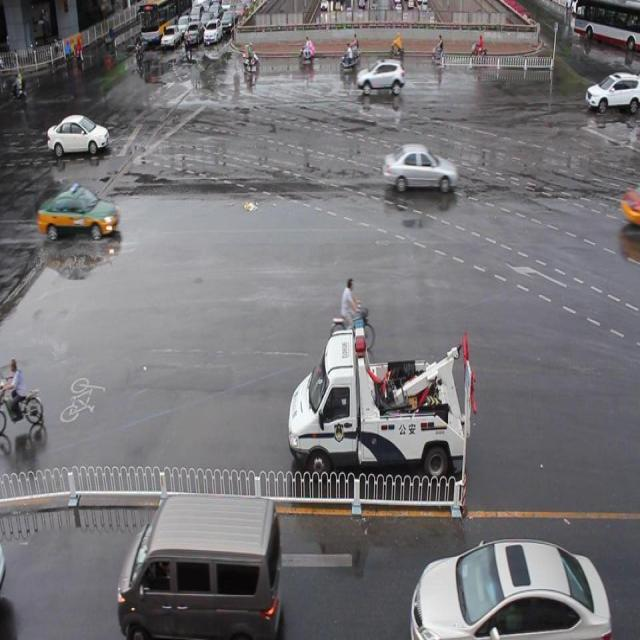bus: (289, 308, 475, 475)
car: (410, 537, 609, 640), (37, 185, 121, 237), (382, 143, 459, 196), (584, 69, 640, 112), (354, 55, 404, 98)
truck: (118, 492, 283, 640)
